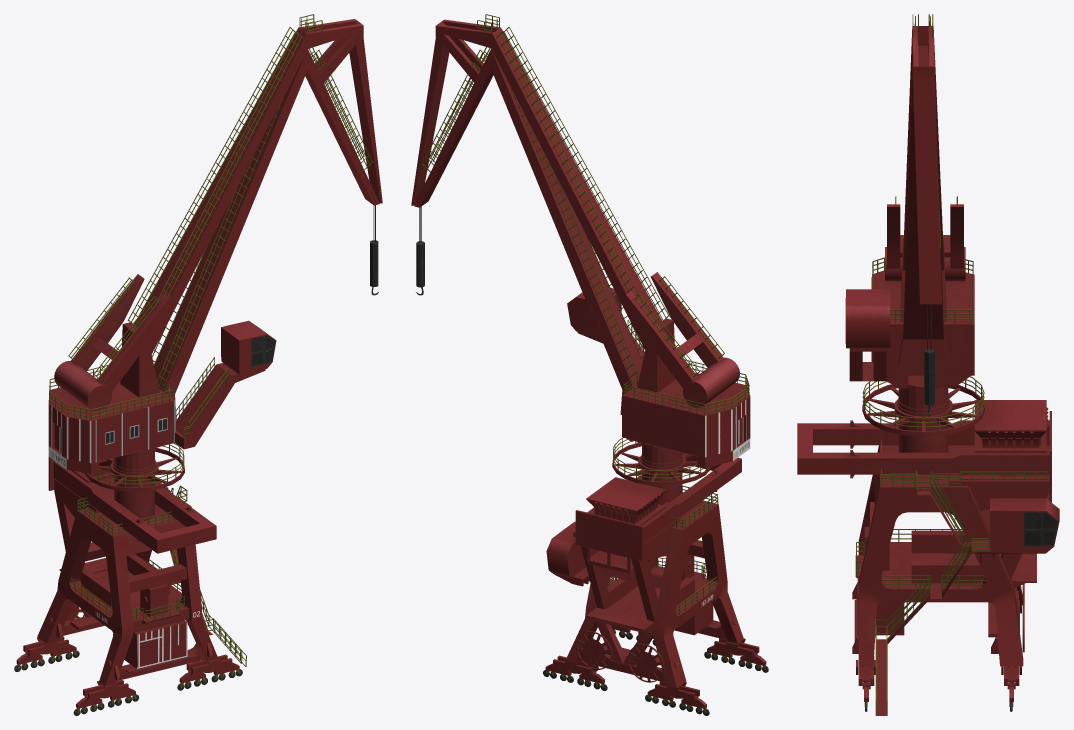
3 views of the same model, side by side, from view 1: azimuth 30°, elevation 25°; view 2: azimuth 150°, elevation 25°; view 3: azimuth 270°, elevation 25° (orthographic). The views are drawn at different scales.
Parts seen in each view (by area): view 1: AAA_polySurface1; view 2: AAA_polySurface1; view 3: AAA_polySurface1.
Part boxes in pixels (box(x1,y1,x2,y2)): AAA_polySurface1: box(14, 14, 382, 715); AAA_polySurface1: box(411, 14, 768, 715); AAA_polySurface1: box(797, 14, 1059, 715).
Bounding box in the file's own units: 3403 × 6055 × 1919.
1 material, 1 textured.
